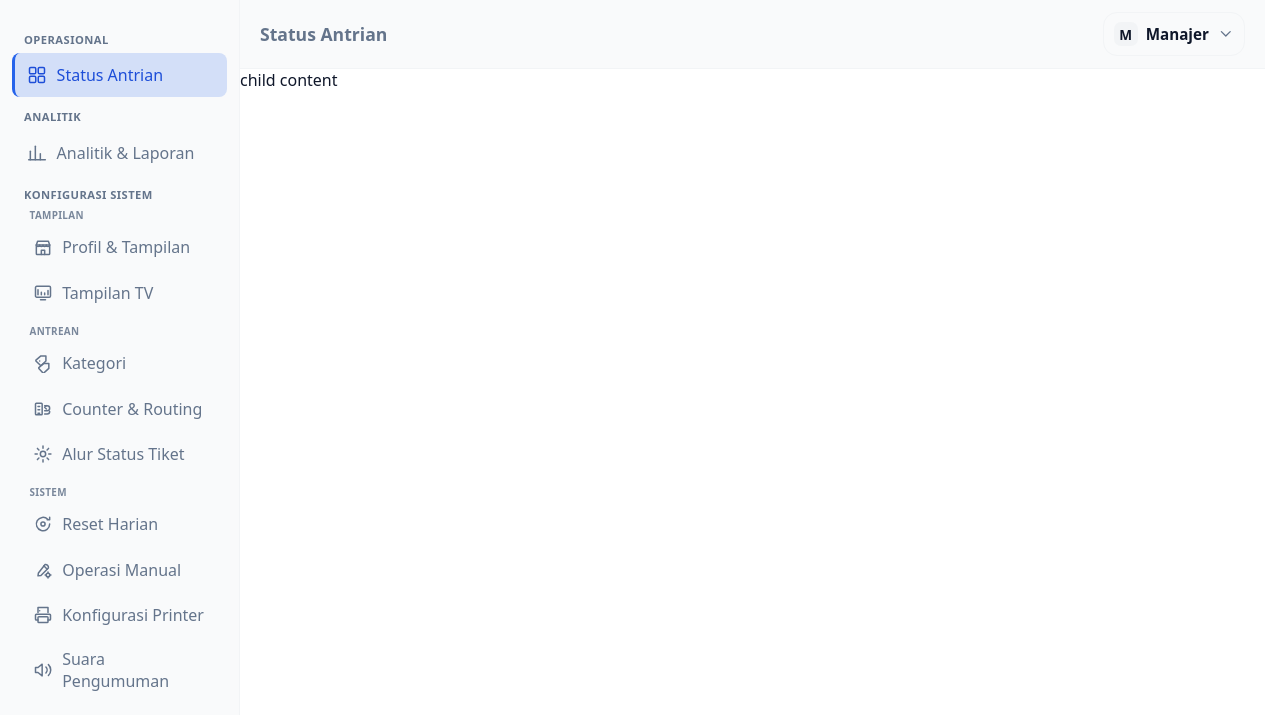
Test: AppShell › closes the profile menu on a second toggle click
Click the button "M Manajer" at (1174, 34), box [1103,12,1245,56]
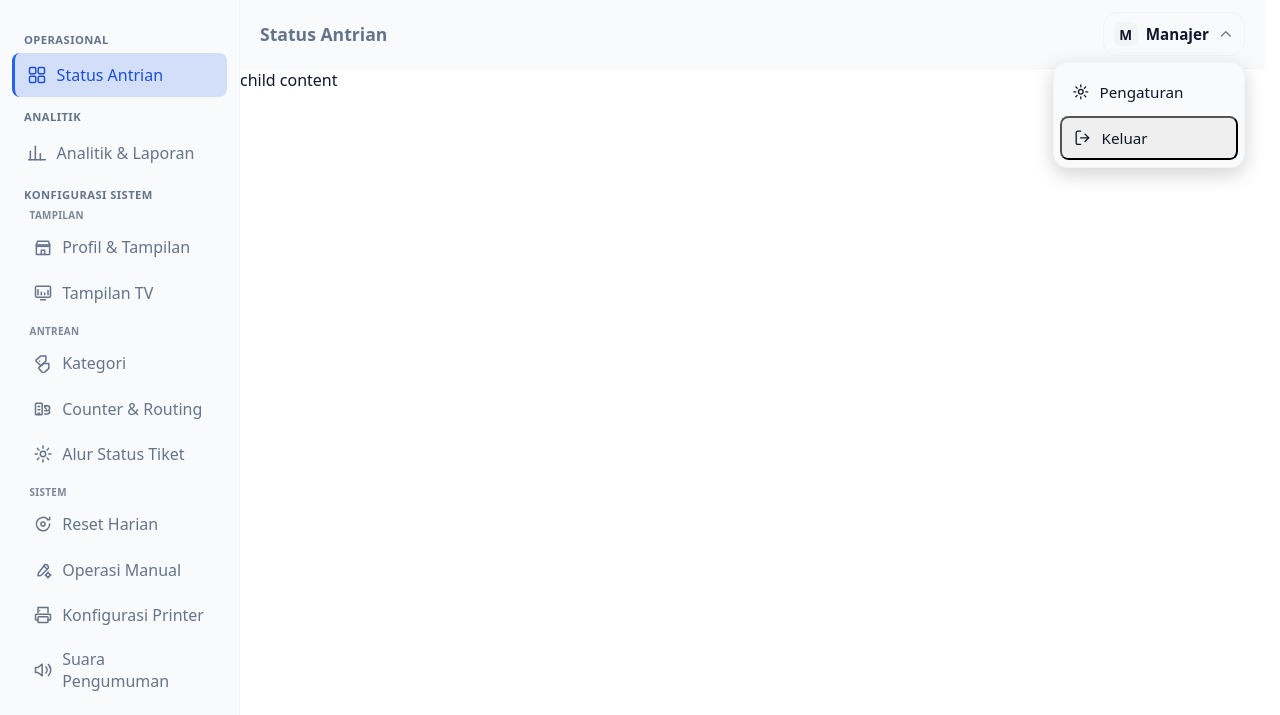
Expected: the button "M Manajer" is expanded
Click the button "M Manajer" at (1174, 34), box [1103,12,1245,56]
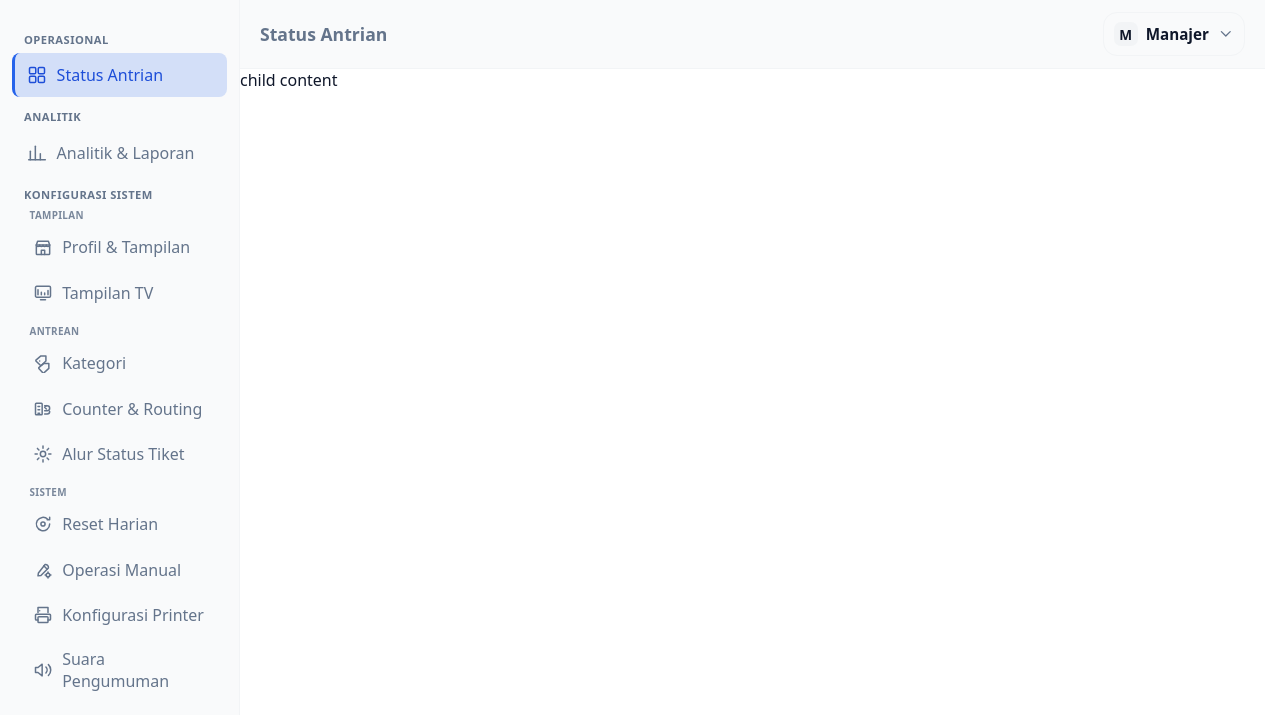
Expected: the button "M Manajer" is collapsed, [1103,12,1245,56]
Expected: the menu item is gone
